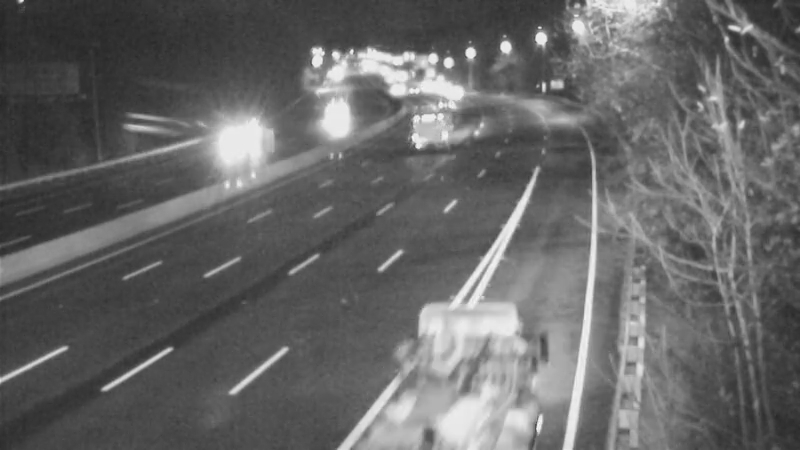vehicle: (404, 343, 514, 450), (190, 115, 270, 195), (413, 75, 463, 125), (393, 102, 443, 152), (228, 114, 278, 164), (302, 95, 352, 145)
